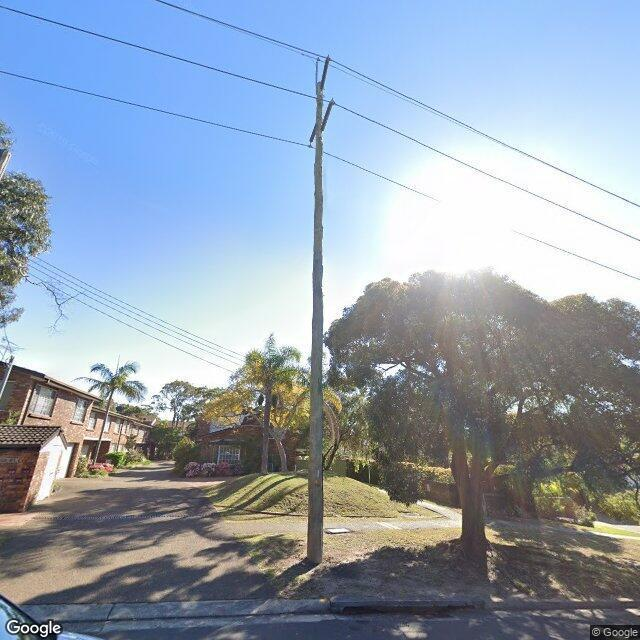HV-transmission: (309, 54, 336, 148)
timber-pole: (306, 80, 324, 564)
